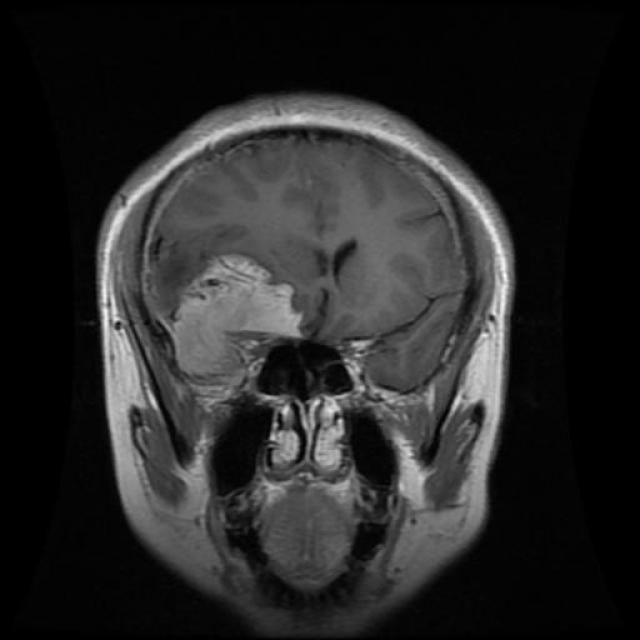meningioma: (170, 254, 309, 390)
